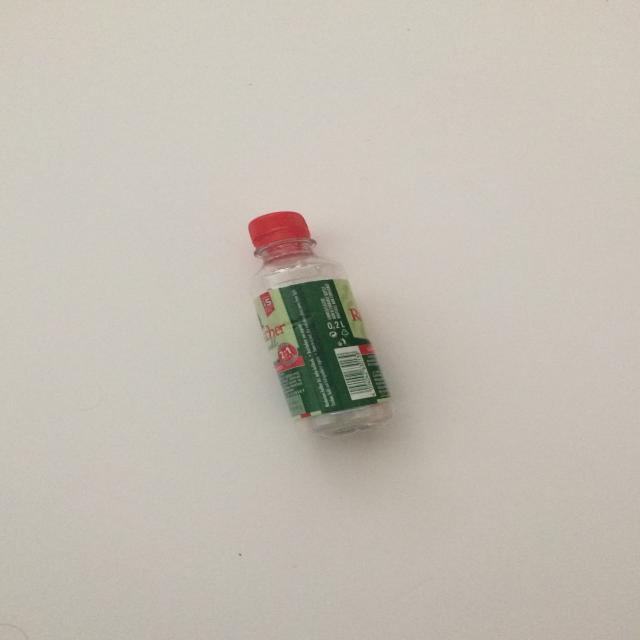plastic: (247, 210, 396, 438)
